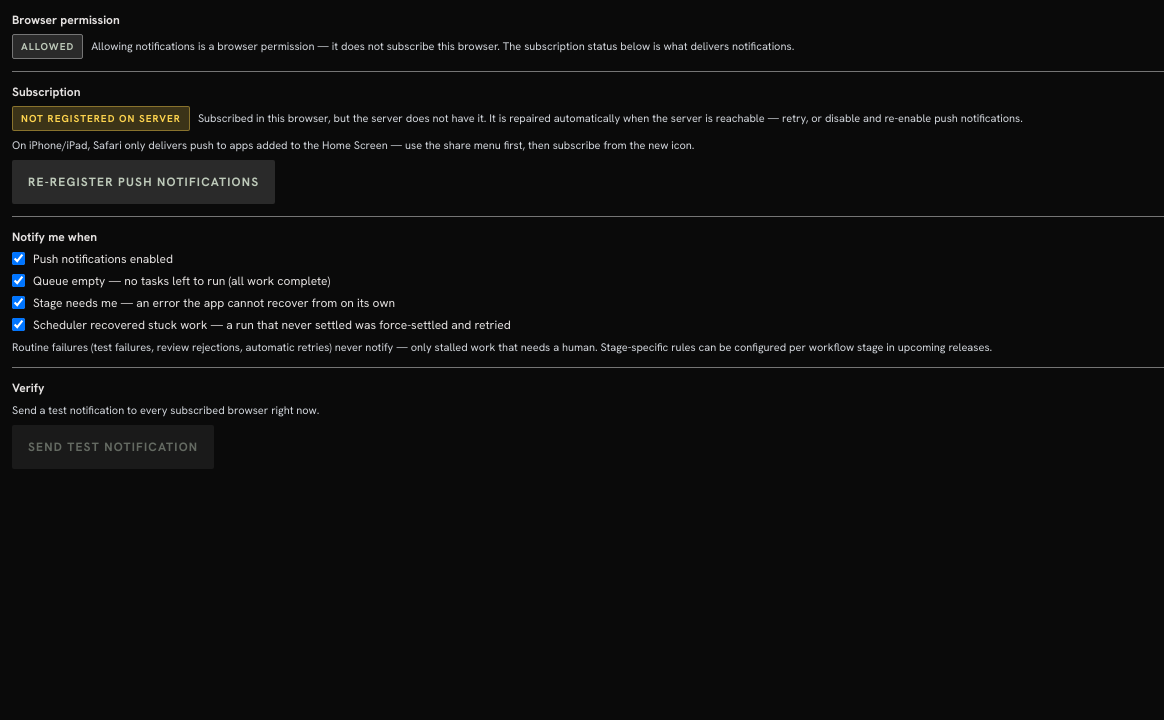
local subscription missing on the server warns and offers a re-register retry
Check: the text with test id "push-subscription-status" reads "Not registered on server", box [21, 112, 181, 125]
Check: the text with test id "push-subscription-detail" shows "server does not have it", box [198, 111, 1023, 125]
Click the button "Re-register push notifications": coordinates (144, 182) [12, 160, 275, 204]
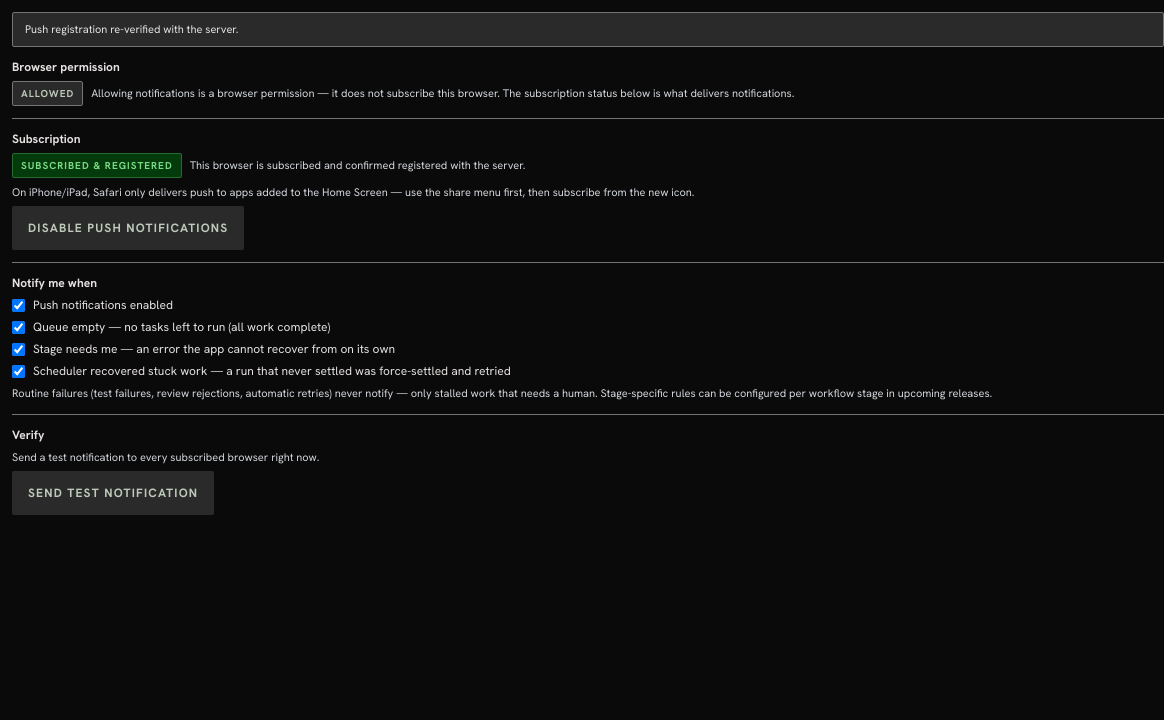
Check: the text with test id "push-subscription-status" reads "Subscribed & registered", box [21, 158, 173, 172]
